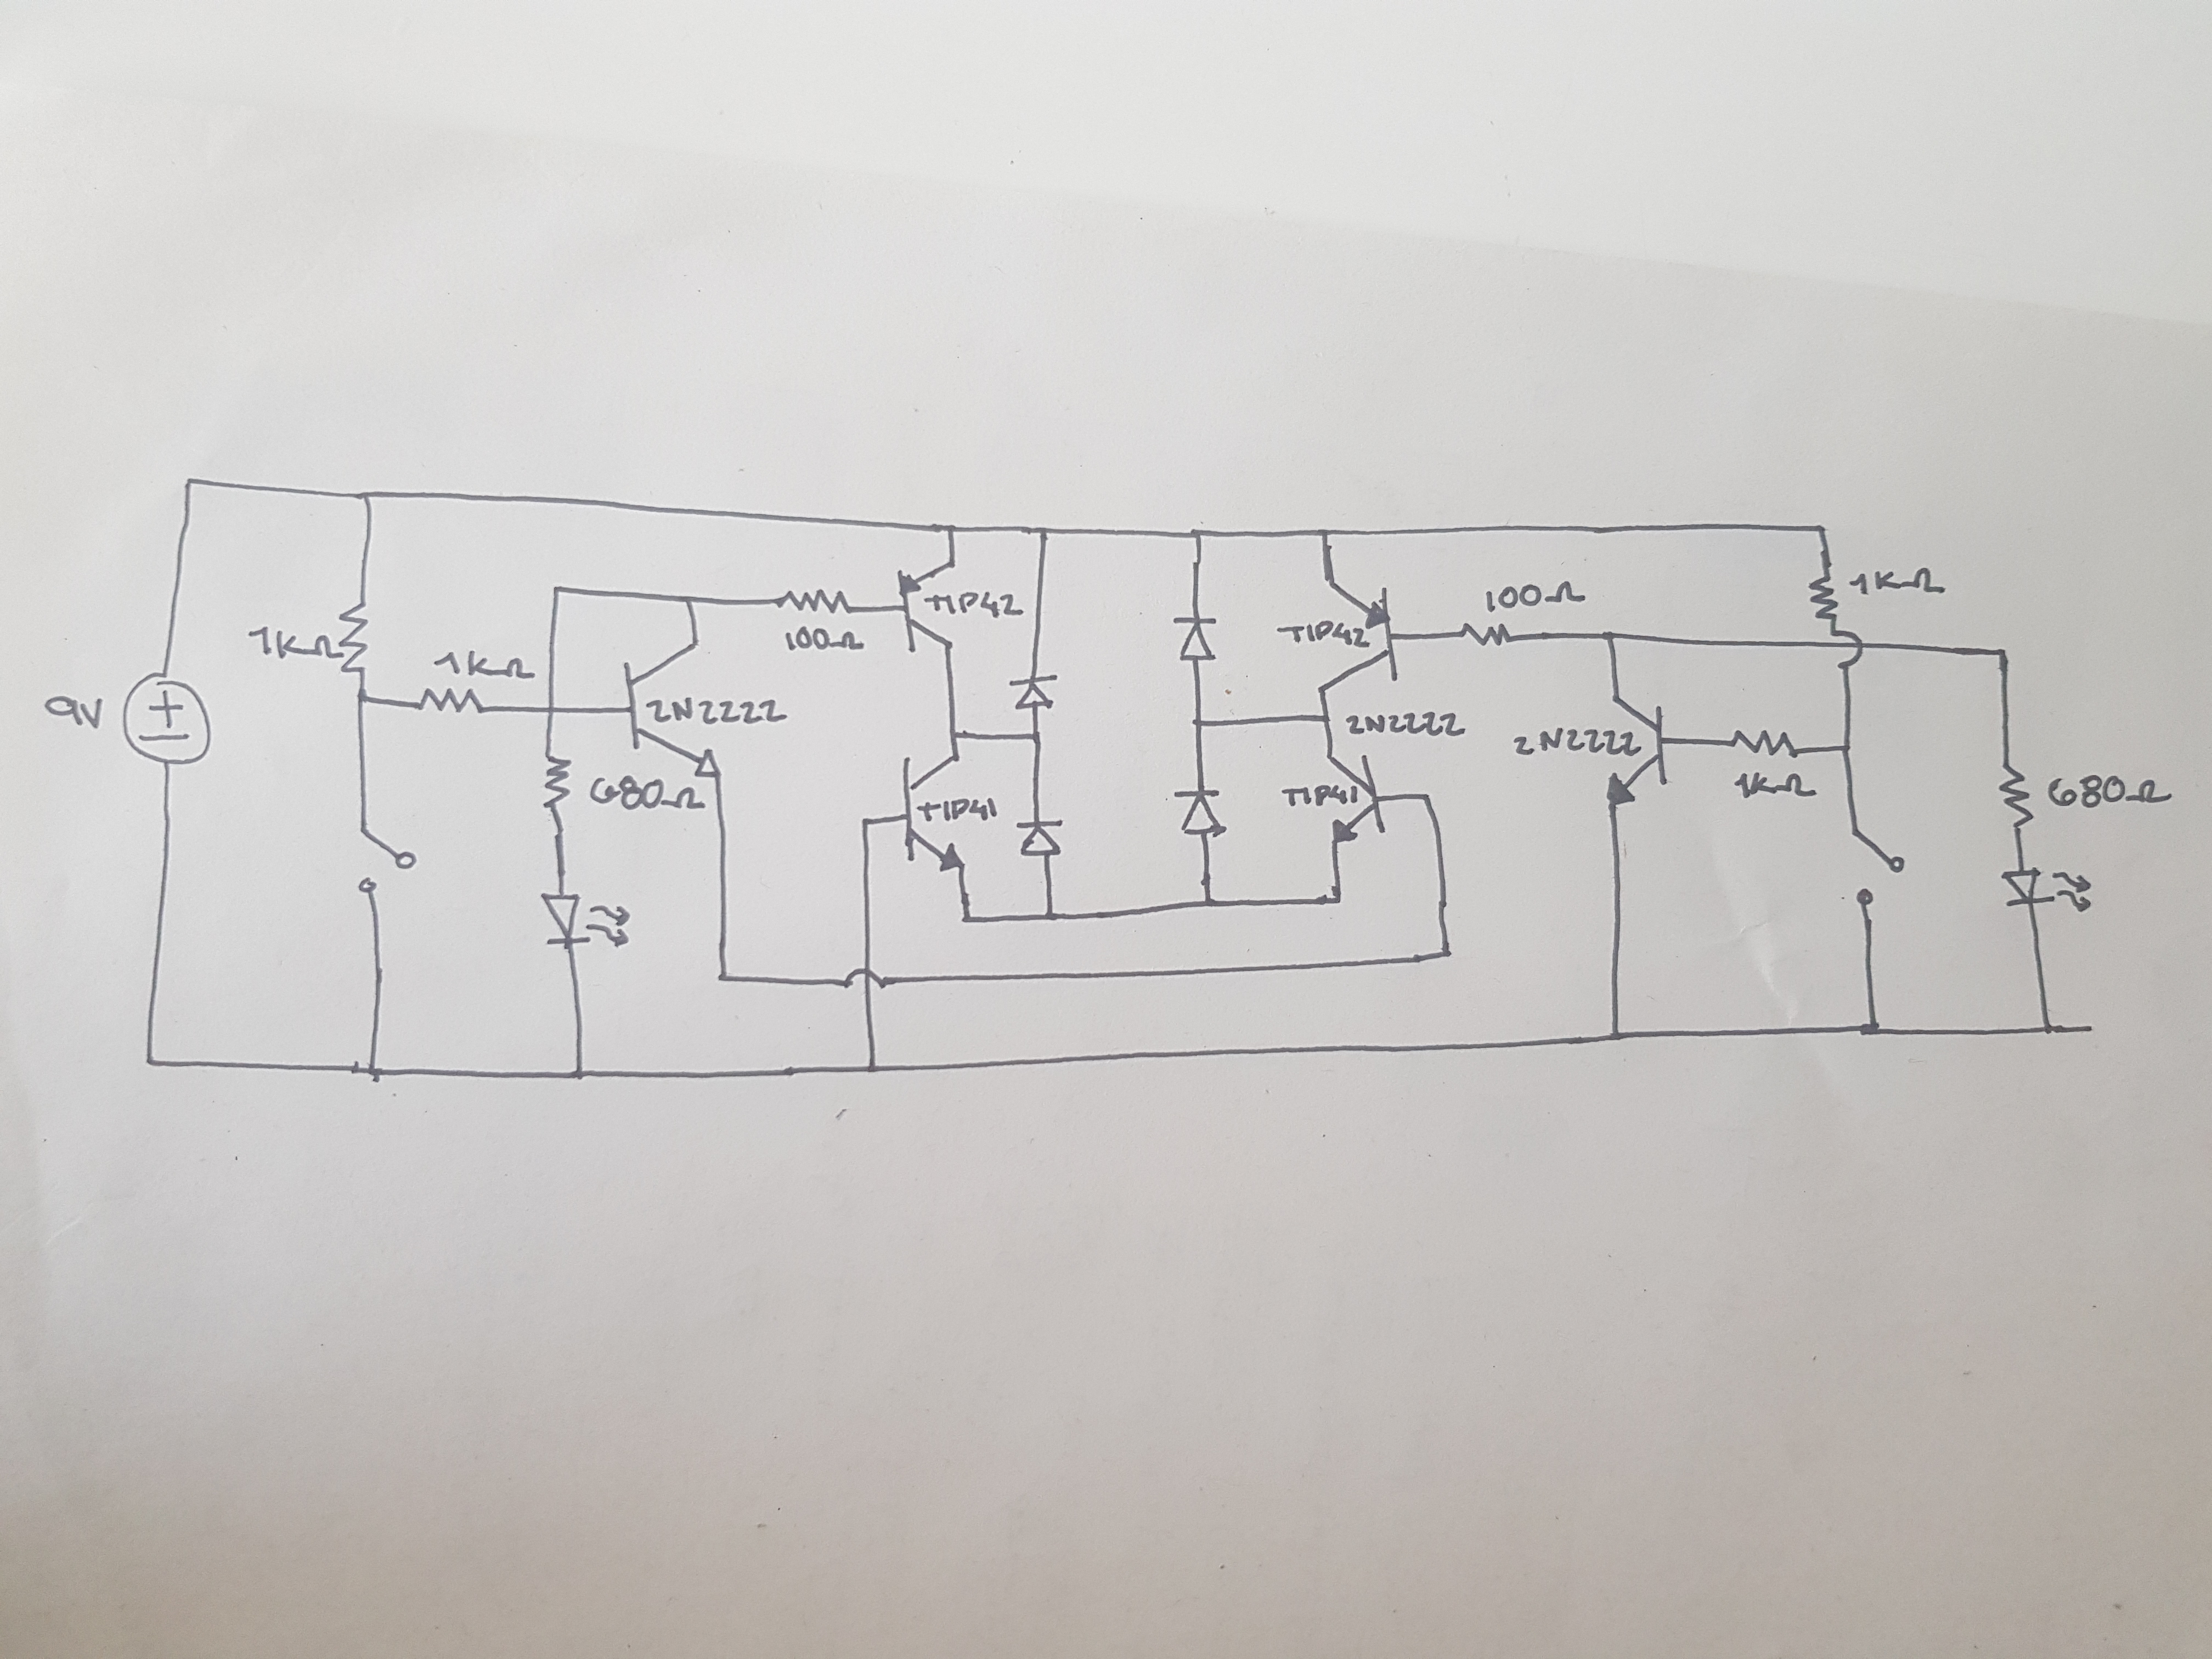crossover: (836, 960, 894, 997), (1824, 626, 1865, 674)
diode: (1170, 784, 1233, 840), (1169, 612, 1226, 667), (1010, 817, 1071, 863), (1007, 671, 1062, 713)
diode.light_emitting: (536, 885, 641, 958), (1998, 863, 2095, 918)
junction: (1597, 1019, 1634, 1054), (1987, 640, 2019, 674), (1857, 1012, 1886, 1046), (361, 1060, 388, 1091), (2031, 1014, 2059, 1044), (1193, 885, 1219, 917), (1595, 624, 1625, 650), (564, 1063, 594, 1089), (1432, 939, 1458, 967), (545, 577, 571, 605), (1806, 518, 1838, 540), (1413, 789, 1439, 816), (1320, 885, 1346, 911), (354, 486, 383, 509), (1832, 734, 1857, 760), (859, 1058, 885, 1082), (1310, 519, 1338, 542), (1036, 903, 1061, 927), (711, 965, 733, 992), (1188, 711, 1211, 735), (138, 1049, 162, 1072), (348, 688, 371, 711), (540, 702, 563, 723), (179, 472, 200, 495), (1188, 523, 1207, 547), (1031, 523, 1052, 544), (956, 911, 975, 932), (857, 812, 876, 833), (942, 725, 961, 744), (942, 521, 961, 540), (1024, 728, 1043, 746), (683, 592, 700, 610), (1313, 711, 1334, 725)
resistor: (1994, 756, 2045, 836), (766, 582, 859, 624), (408, 680, 495, 718), (1726, 725, 1804, 765), (333, 603, 374, 674), (540, 748, 578, 817), (1803, 573, 1848, 626), (1458, 617, 1519, 653)
switch: (347, 819, 423, 904), (1844, 823, 1911, 913)
text: (2047, 767, 2177, 809), (644, 690, 791, 725), (1505, 723, 1642, 758), (589, 774, 702, 816), (246, 622, 345, 664), (1484, 577, 1592, 613), (1844, 563, 1949, 598), (427, 650, 535, 683), (1343, 711, 1467, 739), (921, 587, 1024, 620), (1280, 617, 1374, 652), (1728, 769, 1818, 803), (42, 688, 106, 734), (1277, 781, 1366, 812), (916, 798, 1000, 826), (780, 627, 871, 652)
transistor: (620, 631, 726, 782), (1317, 575, 1404, 694), (1604, 688, 1676, 812), (895, 756, 968, 873), (1324, 748, 1390, 847), (895, 558, 960, 655)
voltage.dc: (118, 669, 214, 769)
